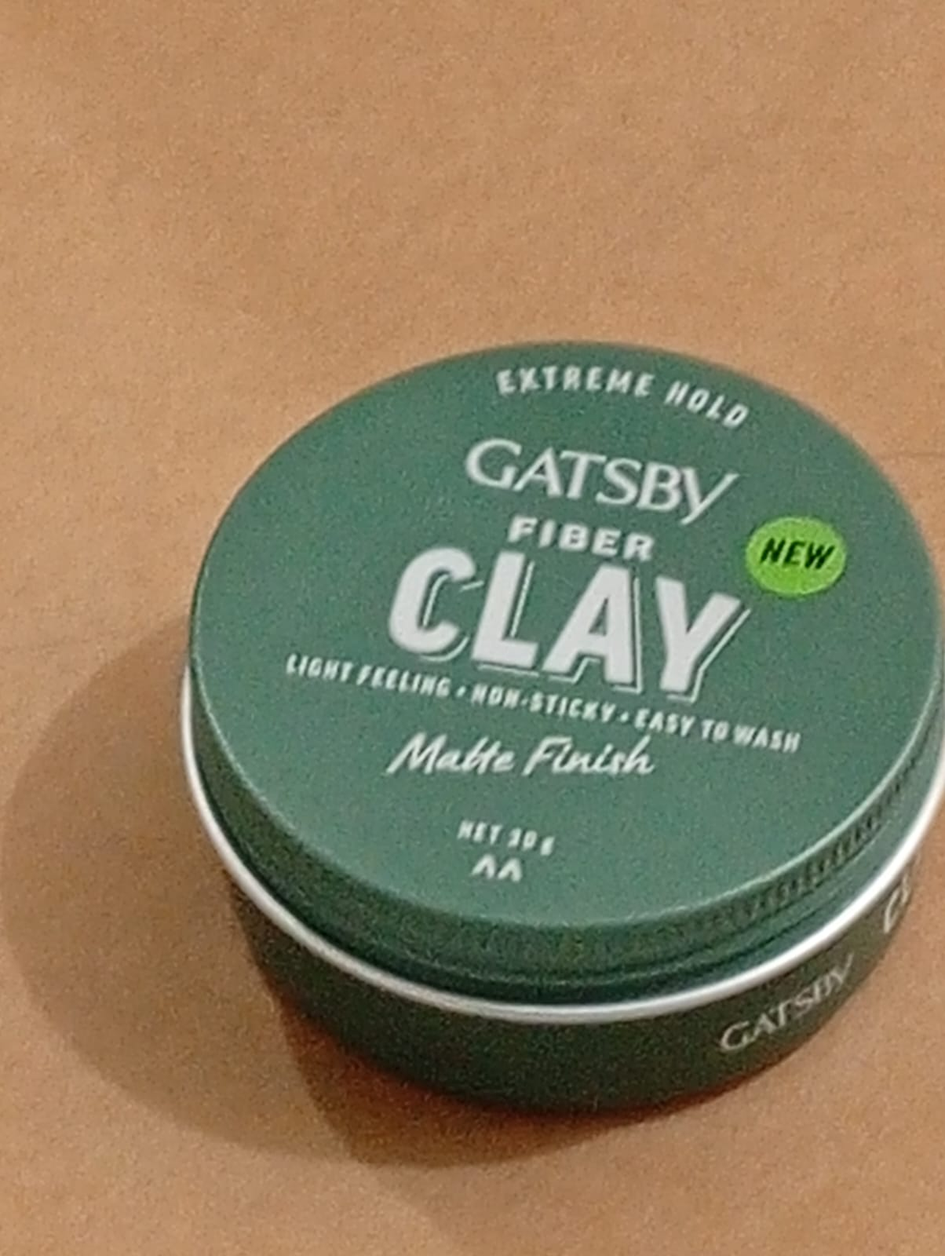Minyak_Rambut: (108, 331, 945, 1171)
